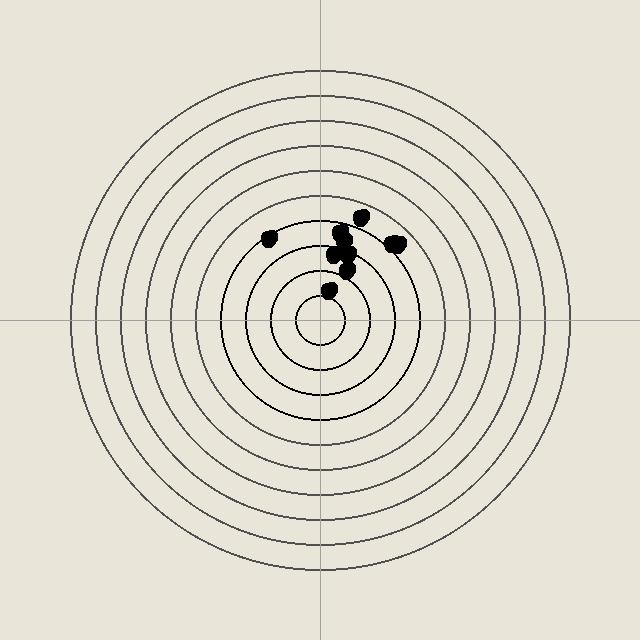good_group: (336, 260, 356, 280), (337, 244, 357, 264), (323, 244, 343, 264), (333, 231, 353, 251), (381, 233, 401, 253), (258, 228, 278, 248), (329, 222, 349, 242), (387, 234, 407, 254), (350, 207, 370, 227), (318, 280, 338, 300)
